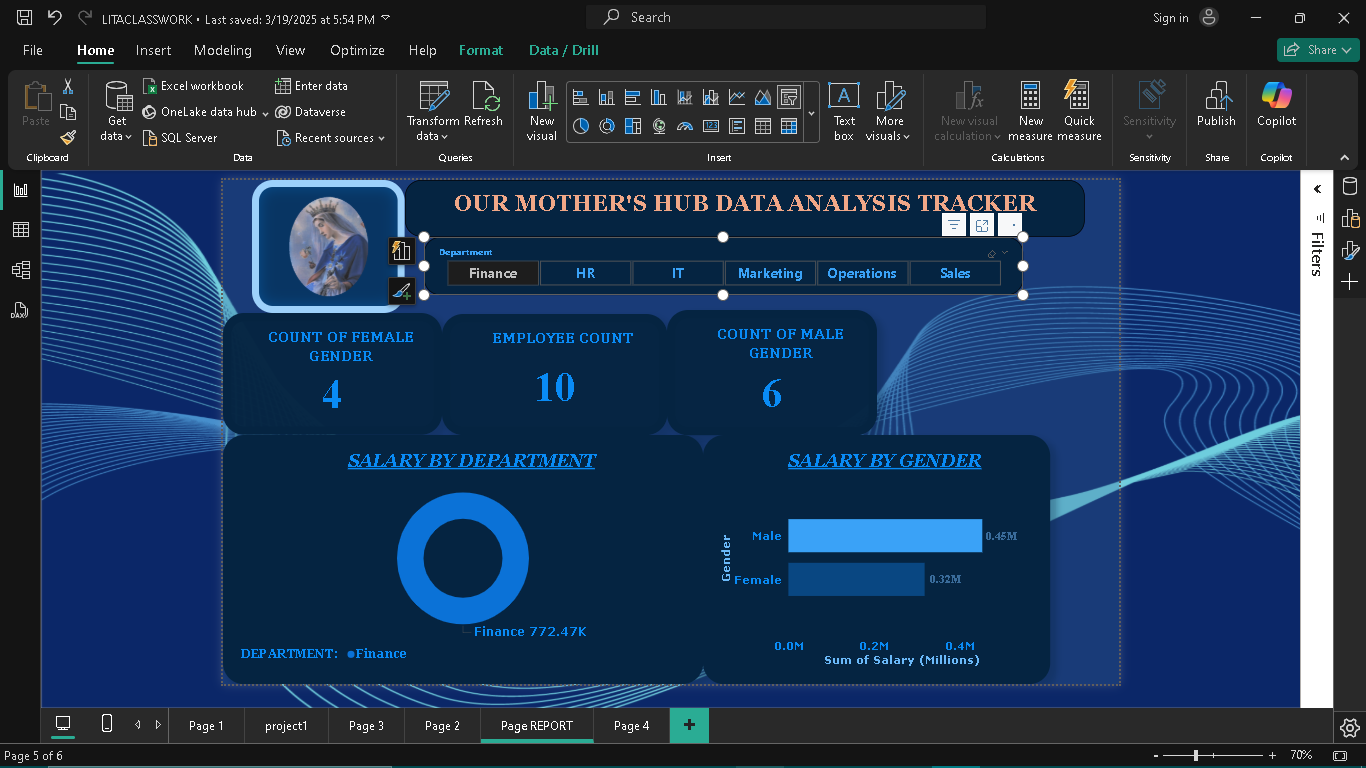

Layout of this report page (visuals, bound fields, positions):
{"tool":"powerbi","page":{"name":"Page REPORT","canvas":[1280,720],"ordinal":0},"visuals":[{"type":"card","title":"EMPLOYEE COUNT","fields":{"Values":["HR_Employee_Data.Measure 2"]},"box":[312.9,190,321.4,174.3],"z":0},{"type":"card","title":" COUNT OF MALE GENDER","fields":{"Values":["Count(HR_Employee_Data)"]},"box":[634.3,185.7,300,178.6],"z":1000},{"type":"card","title":" COUNT OF FEMALE GENDER","fields":{"Values":["Count(HR_Employee_Data)"]},"box":[0,190,312.9,174.3],"z":2000},{"type":"textbox","box":[260,0,971.4,81.4],"z":3000},{"type":"image","box":[41.7,0,218.3,190],"z":4000},{"type":"donutChart","title":"SALARY BY DEPARTMENT","fields":{"Y":["Sum(HR_Employee_Data.Salary)"],"Category":["HR_Employee_Data.Department"]},"box":[0,364.3,685.7,355.7],"z":5000},{"type":"clusteredBarChart","title":"SALARY BY GENDER","fields":{"Y":["Sum(HR_Employee_Data.Salary)"],"Category":["HR_Employee_Data.Gender"]},"box":[685.7,364.3,495.7,355.7],"z":6000},{"type":"slicer","fields":{"Values":["HR_Employee_Data.Department"]},"box":[287.1,81.4,855.7,82.9],"z":7000}]}

Visuals, with their boxes on the page's 1280x720 design canvas (x1, y1, x2, y2). These are canvas units, not pixel positions in the 1366x768 screenshot, which may show the page scaled, cropped or inside an application window:
"EMPLOYEE COUNT" card: <region>313, 190, 634, 364</region>
" COUNT OF MALE GENDER" card: <region>634, 186, 934, 364</region>
" COUNT OF FEMALE GENDER" card: <region>0, 190, 313, 364</region>
textbox: <region>260, 0, 1231, 81</region>
image: <region>42, 0, 260, 190</region>
"SALARY BY DEPARTMENT" donutChart: <region>0, 364, 686, 720</region>
"SALARY BY GENDER" clusteredBarChart: <region>686, 364, 1181, 720</region>
slicer - HR_Employee_Data.Department: <region>287, 81, 1143, 164</region>
